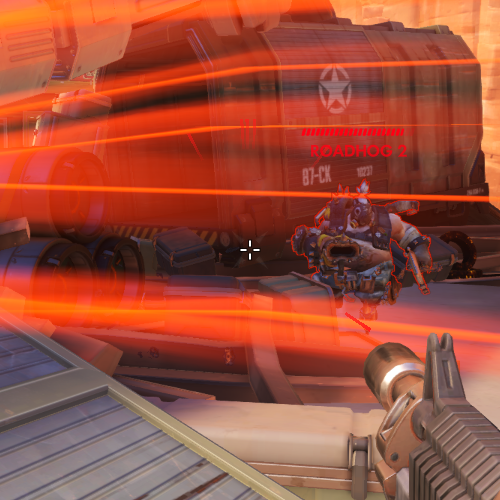hpbar: (300, 127, 406, 137)
